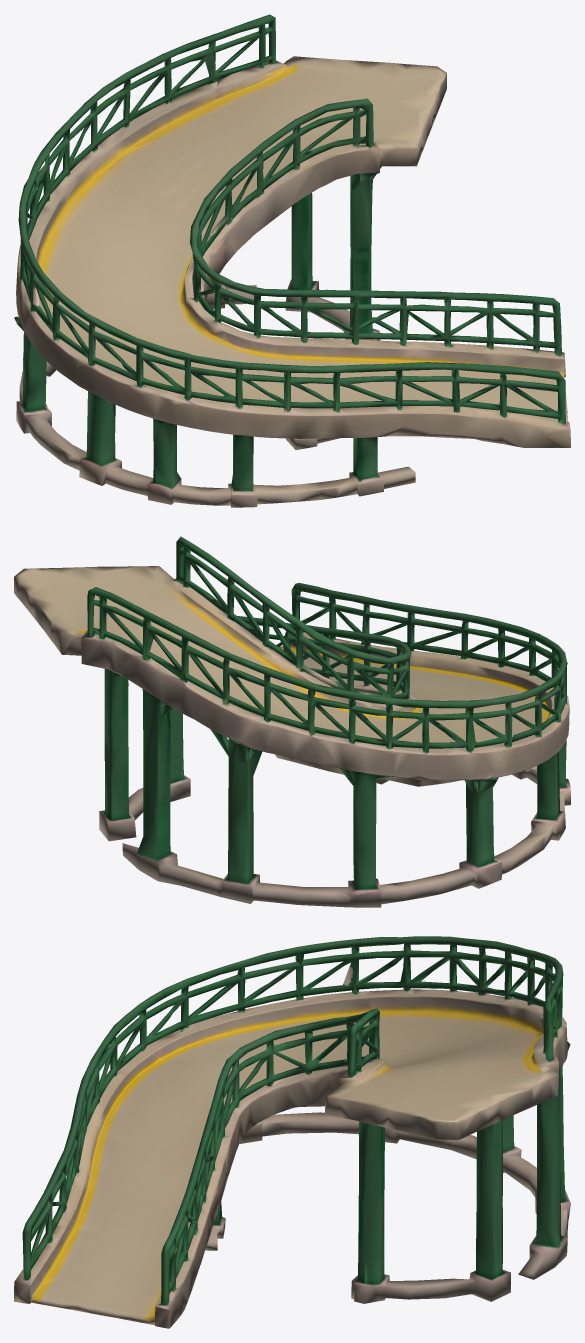
File: tripo_convert_c9e895bd-8c54-490c-b06c-c44e4bd00ec3.glb
The picture shows the model from 3 angles, top to bottom: view 1: azimuth 30°, elevation 25°; view 2: azimuth 150°, elevation 25°; view 3: azimuth 270°, elevation 25°; orthographic projection. The views are drawn at different scales.
Visible parts, largest first — view 1: tripo_node_c9e895bd-8c54-490c-b06c-c44e4bd00ec3; view 2: tripo_node_c9e895bd-8c54-490c-b06c-c44e4bd00ec3; view 3: tripo_node_c9e895bd-8c54-490c-b06c-c44e4bd00ec3.
Boxes of the visible parts, left/top/right/bottom form: tripo_node_c9e895bd-8c54-490c-b06c-c44e4bd00ec3: left=14, top=14, right=570, bottom=507; tripo_node_c9e895bd-8c54-490c-b06c-c44e4bd00ec3: left=14, top=536, right=570, bottom=907; tripo_node_c9e895bd-8c54-490c-b06c-c44e4bd00ec3: left=14, top=936, right=570, bottom=1328.
Size of the model in its own units: 1 by 0.5845 by 0.9937.
1 material, 1 textured.
